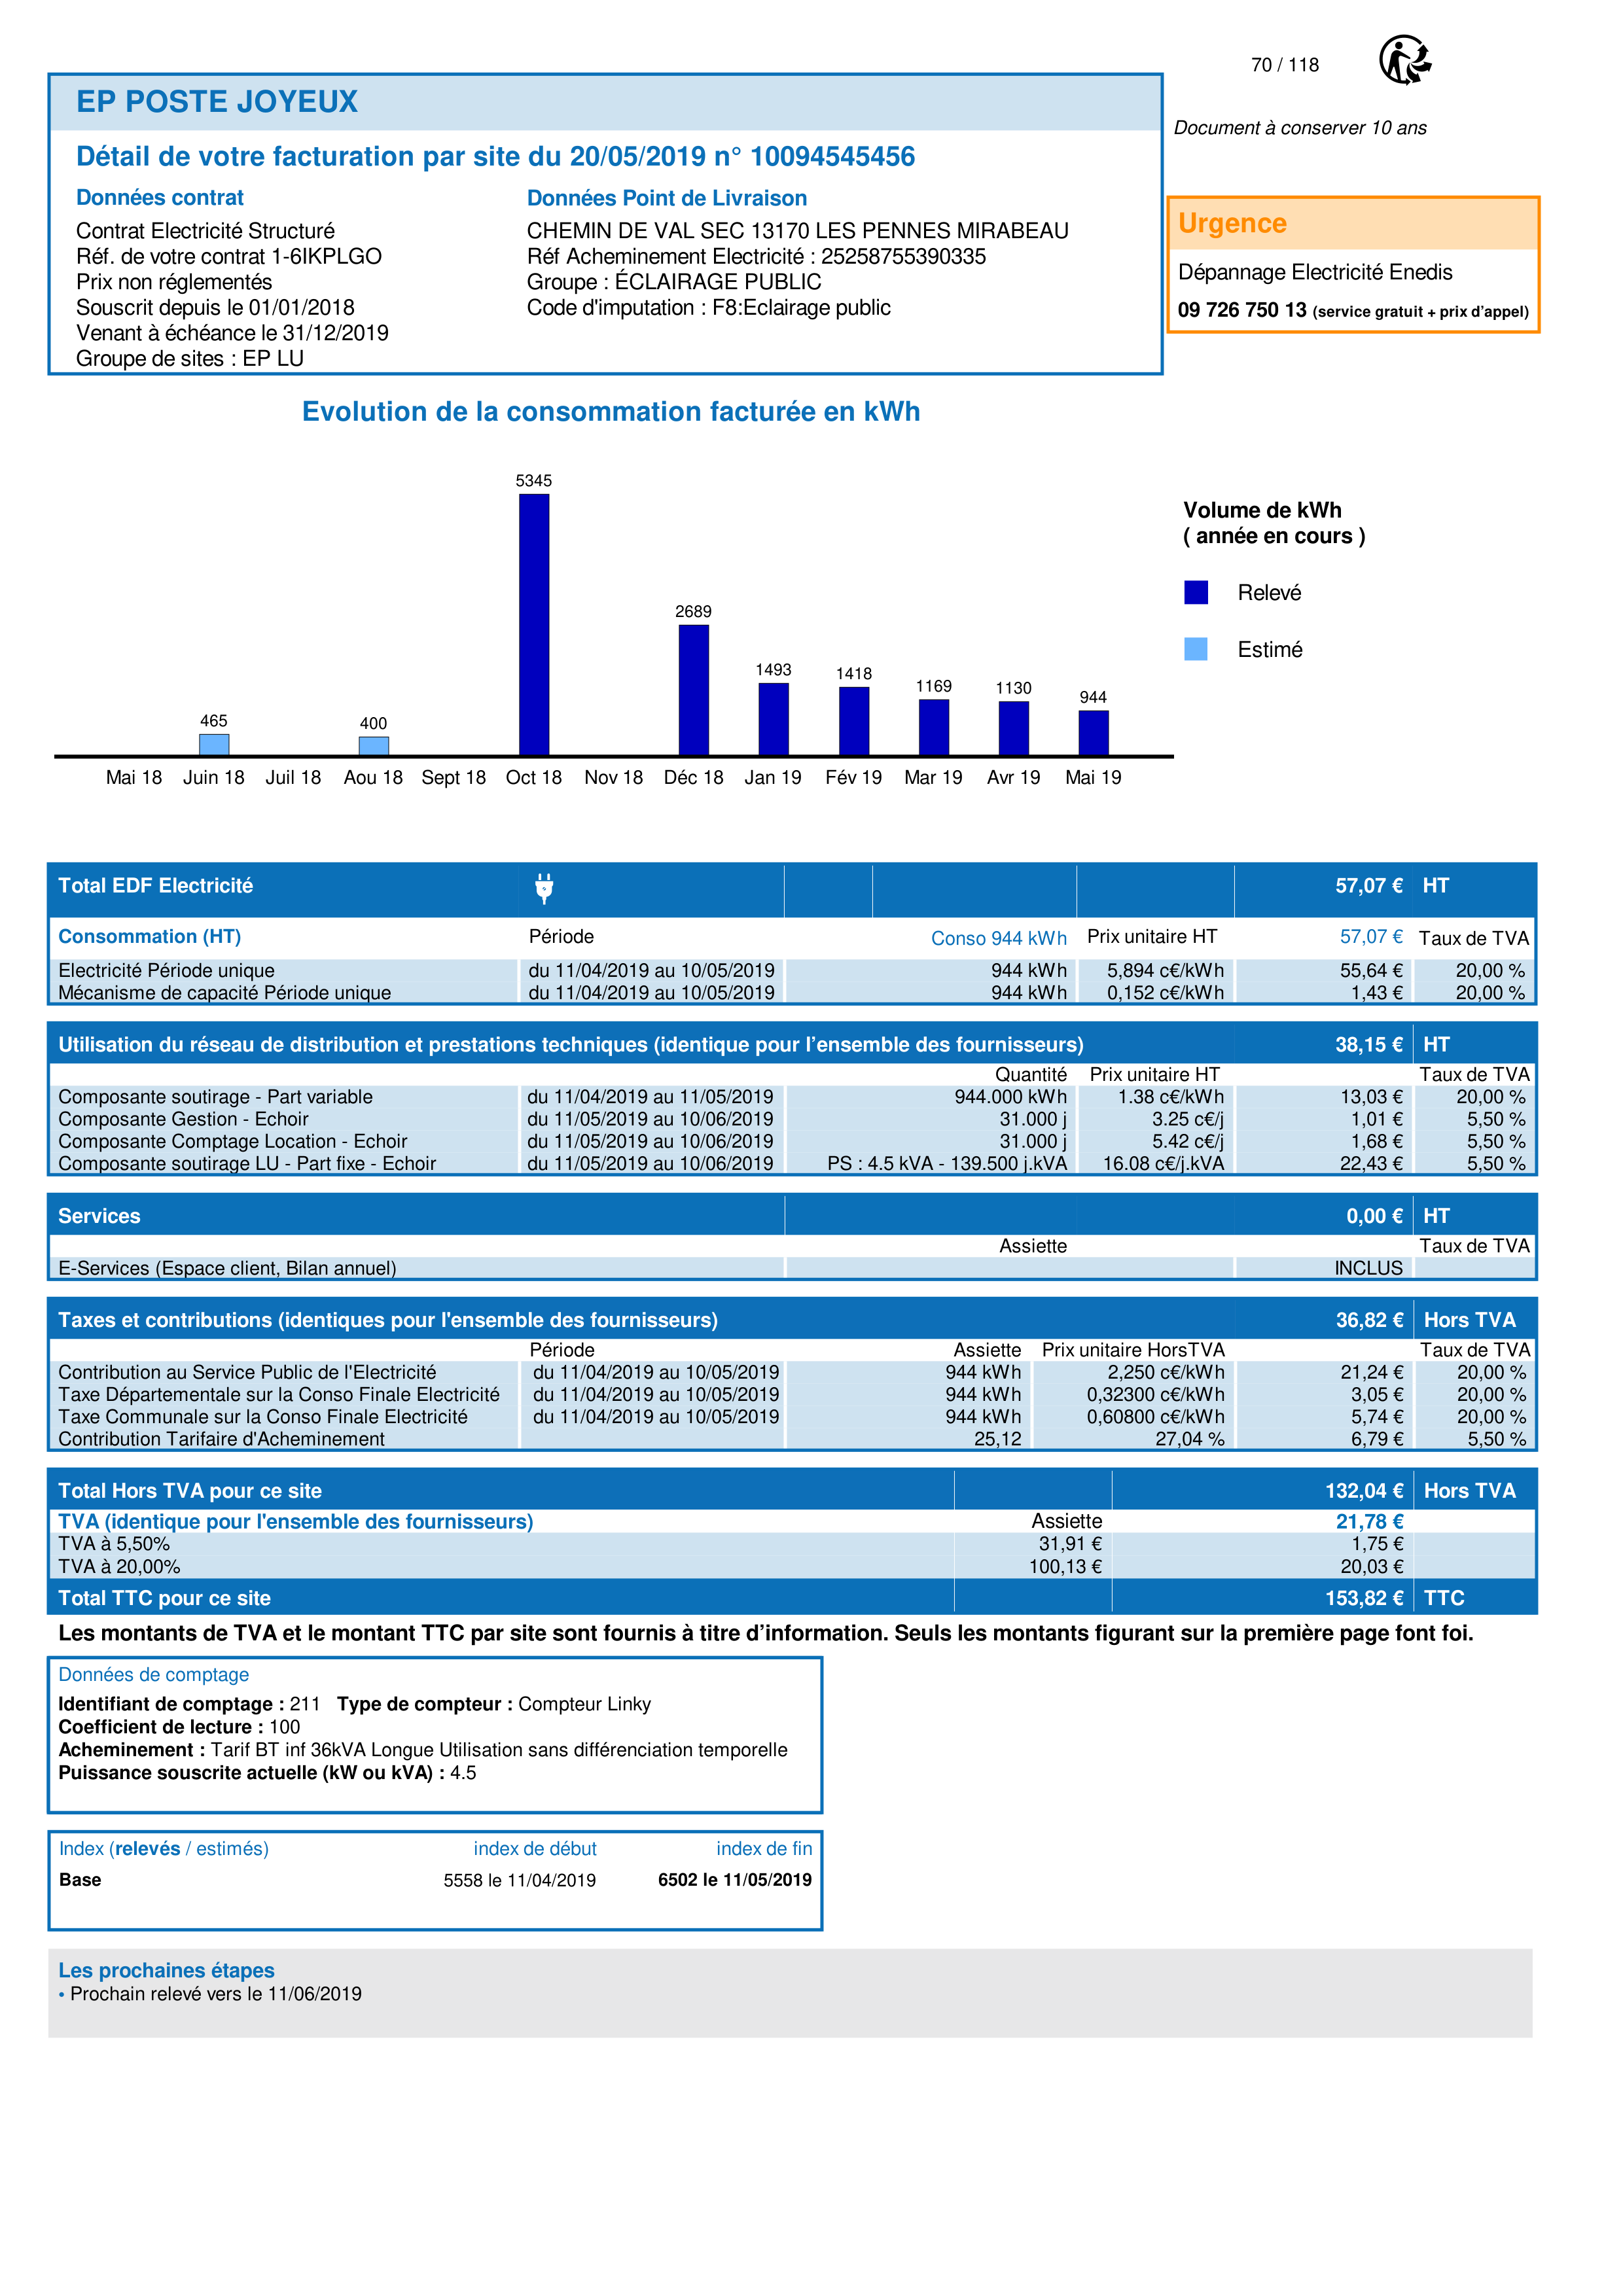area: (47, 1829, 823, 1932)
type_indicator: (48, 1829, 282, 1862)
